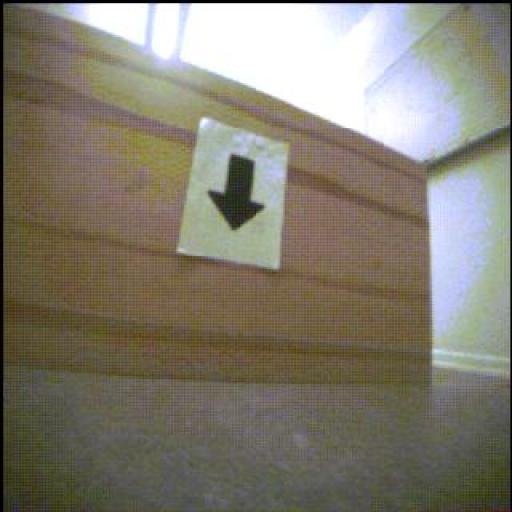arrow: (209, 157, 265, 232)
